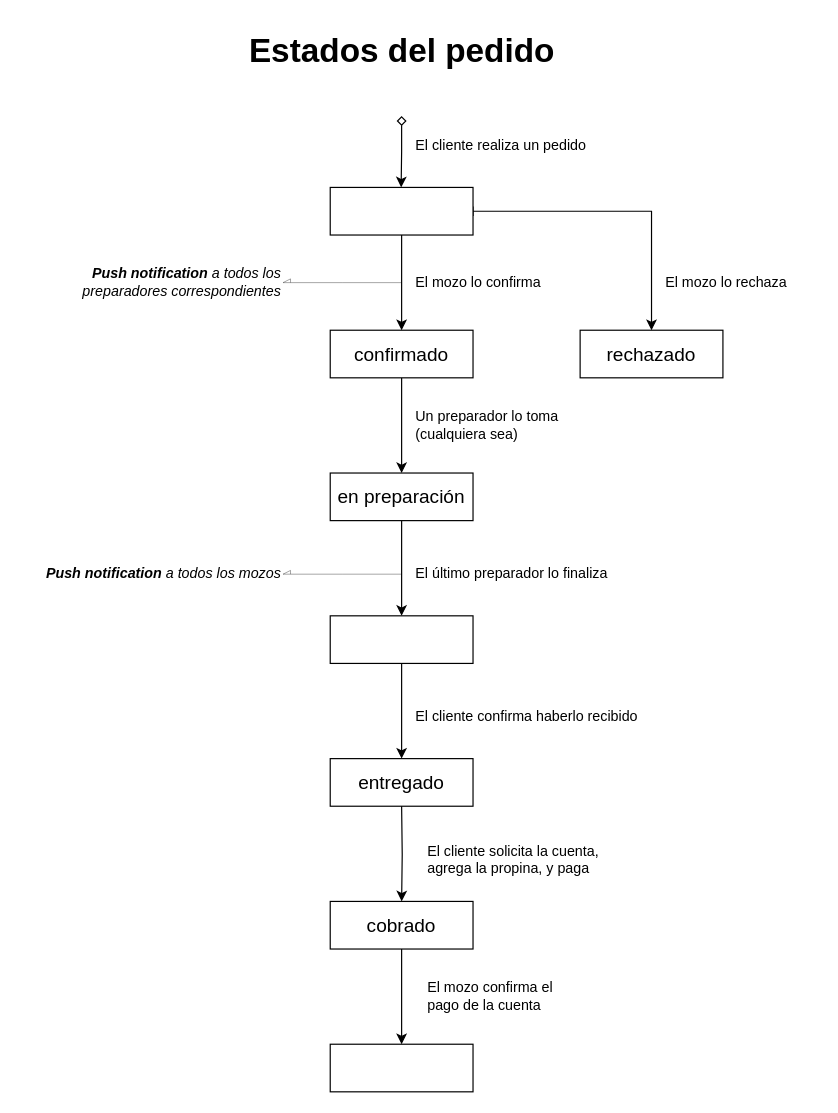
This 838x1113 diagram has some shape labels left out. Here are the shapes that lost their labels. From the top down, the centre of each, then its label:
the point at 401,210: a confirmar
the point at 401,639: listo
the point at 401,1067: abonado
